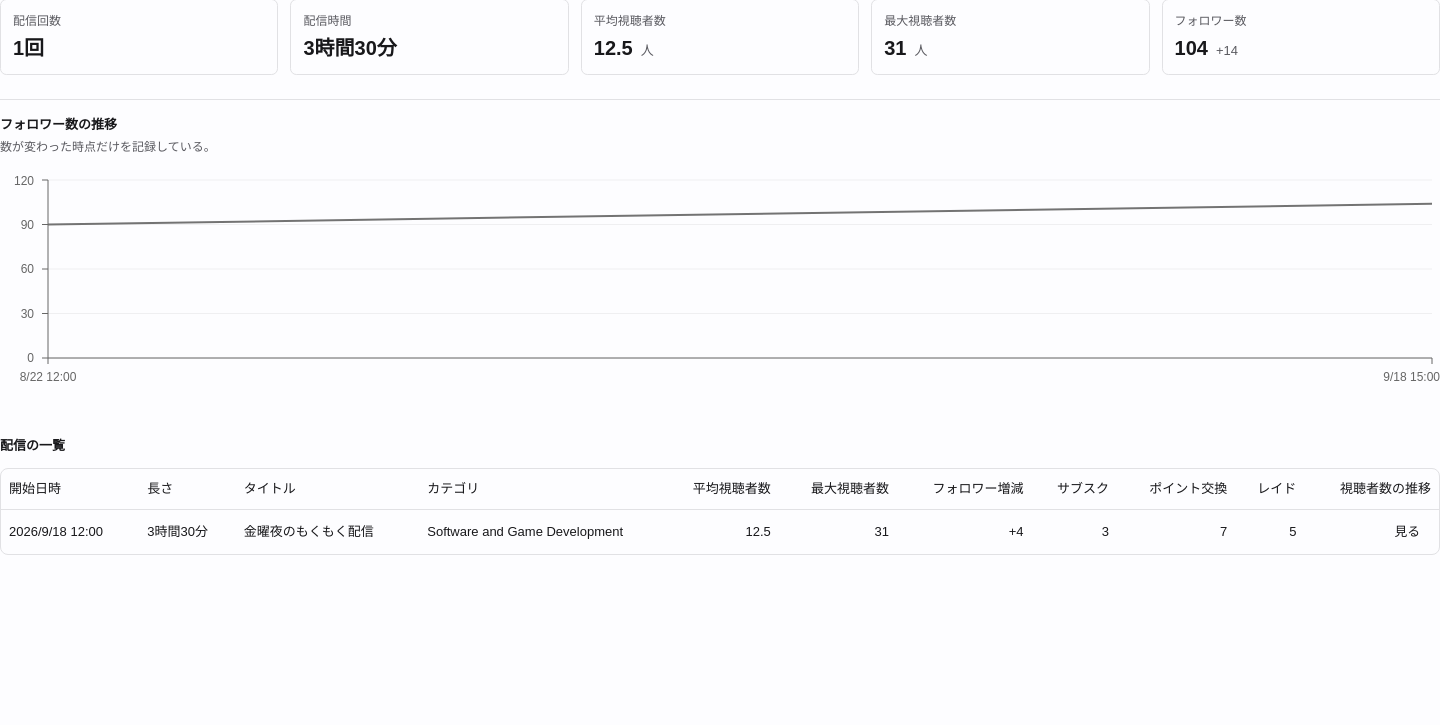
Test: 配信ごとの詳細（視聴者数の推移と話されたこと） › 章ごとにチャットの件数と発言者数を添え、数を残す前の章は 0 と見分けられるよう「記録なし」と出す
Expected: the table named "配信の一覧" is shown, [1,469,1439,554]
Click the button with aria-label "金曜夜のもくもく配信 の詳細を見る": (1407, 532) [1383,518,1431,546]
(page scrolled)
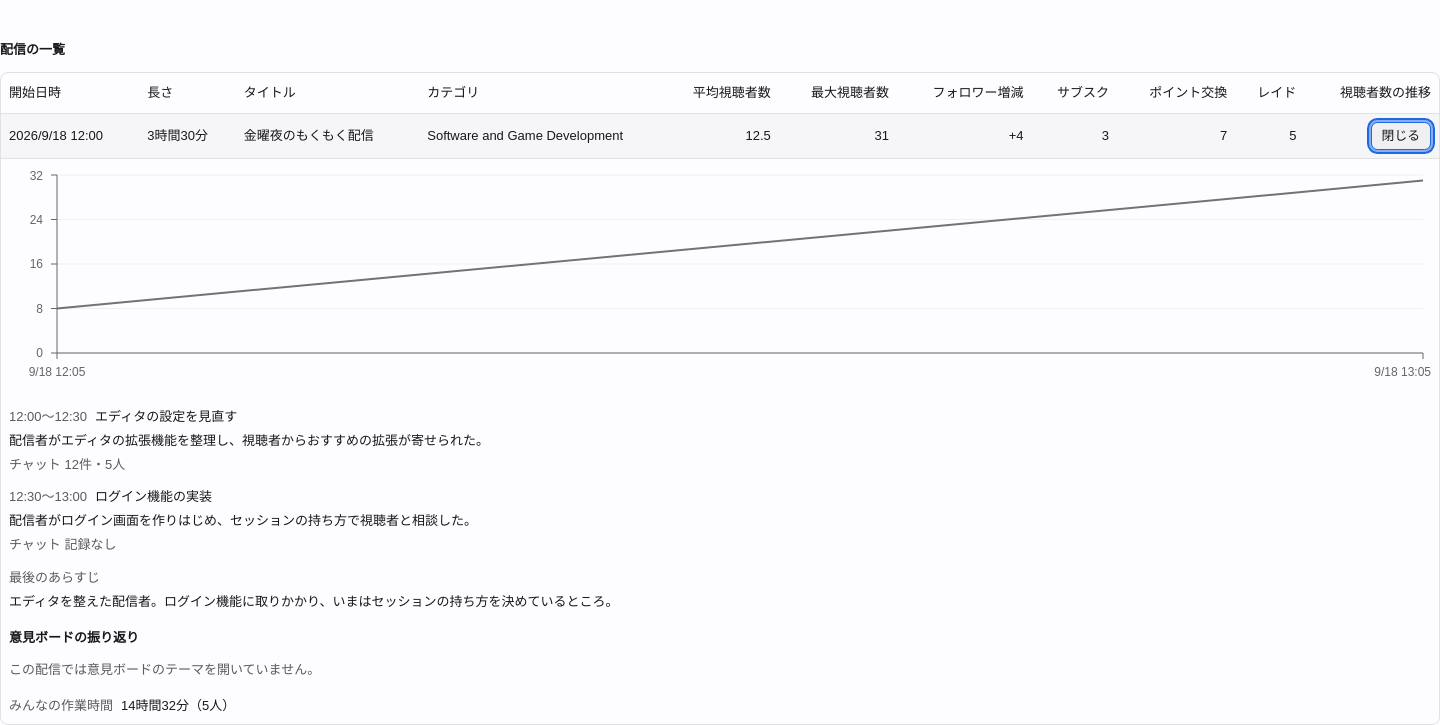
Expected: the list item that starts with "ログイン機能の実装" does not show "0件", [9,489,477,552]
Expected: the list item that starts with "エディタの設定を見直す" shows "チャット 12件・5人", [9,409,489,472]
Expected: the list item that starts with "ログイン機能の実装" shows "チャット 記録なし", [9,489,477,552]
